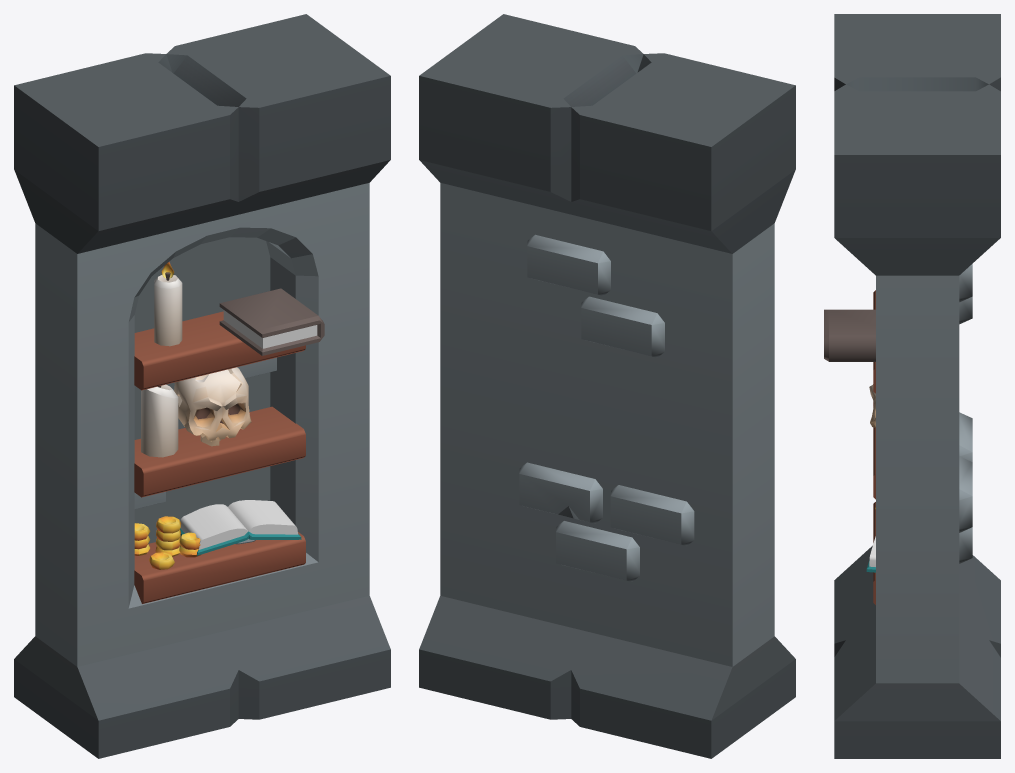
The model's file is wall_crypt_half_A.glb.
The picture shows the model from 3 angles, left to right: view 1: azimuth 30°, elevation 25°; view 2: azimuth 150°, elevation 25°; view 3: azimuth 270°, elevation 25°; orthographic projection.
Visible parts, largest first — view 1: Item; view 2: Item; view 3: Item.
Boxes of the visible parts, left/top/right/bottom form: Item: left=14, top=14, right=390, bottom=758; Item: left=419, top=14, right=795, bottom=758; Item: left=824, top=14, right=1000, bottom=758.
Bounding box in the file's own units: 2 × 4 × 1.06.
4 materials, 4 textured.
